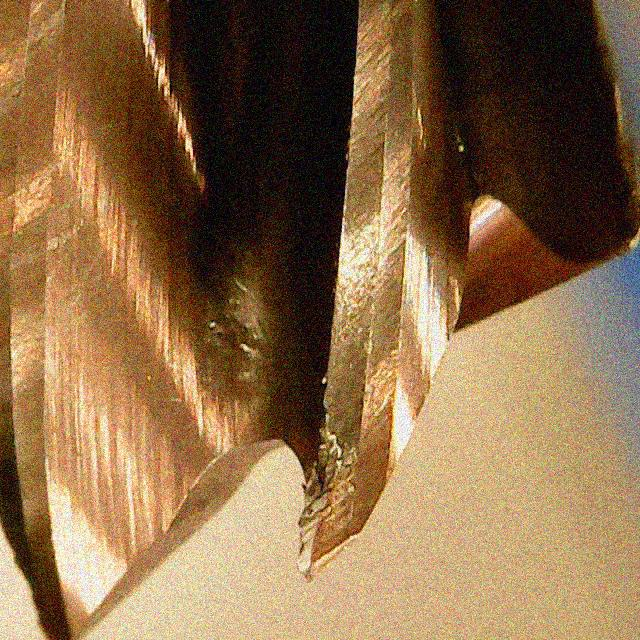Tool-wear-class-1: (272, 366, 419, 584)
